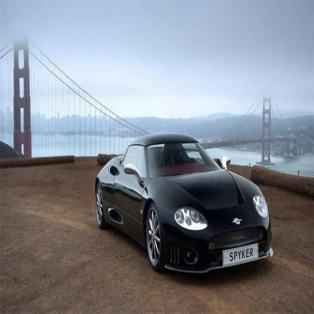Auto: (94, 132, 276, 278)
